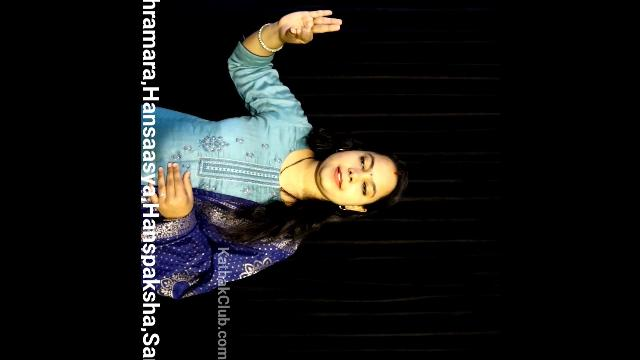hansaasya: (253, 0, 344, 58)
